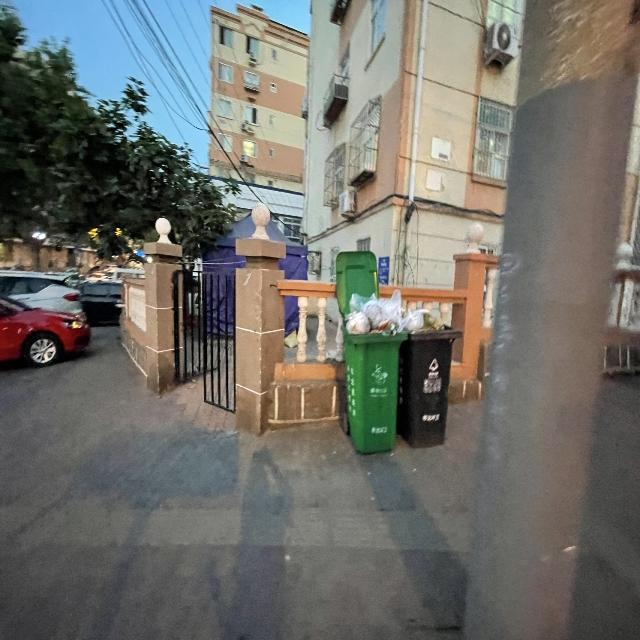overflow: (342, 287, 408, 454), (396, 309, 463, 447)
